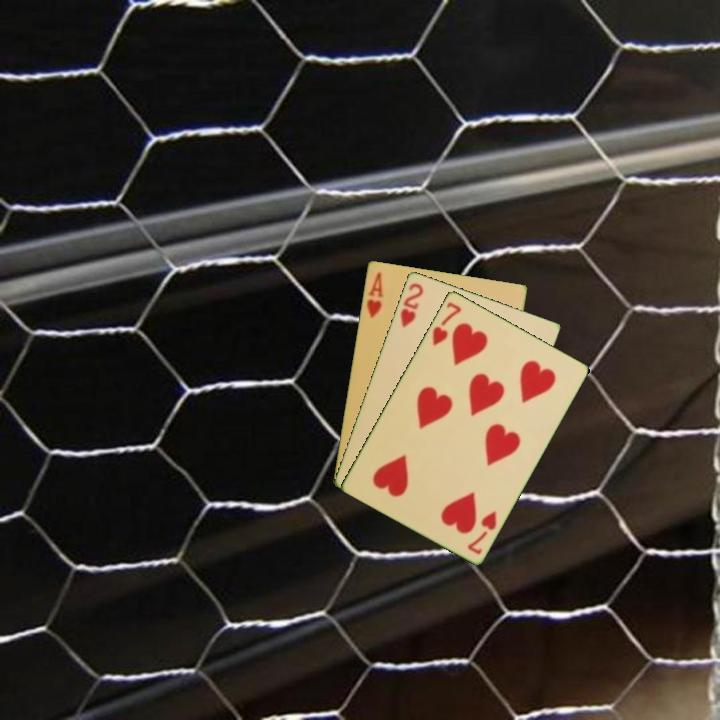2h: (397, 279, 426, 330)
7h: (428, 298, 464, 348), (464, 507, 499, 557)
Ah: (363, 268, 386, 321)
